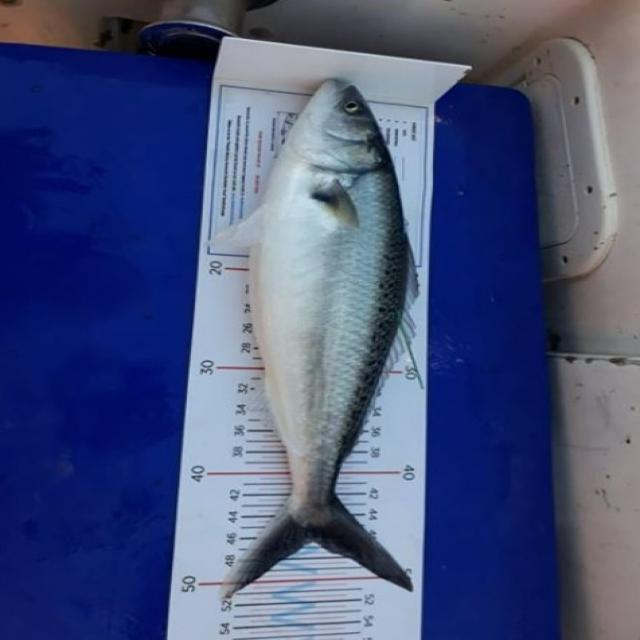Australian Salmon: (200, 65, 444, 610)
